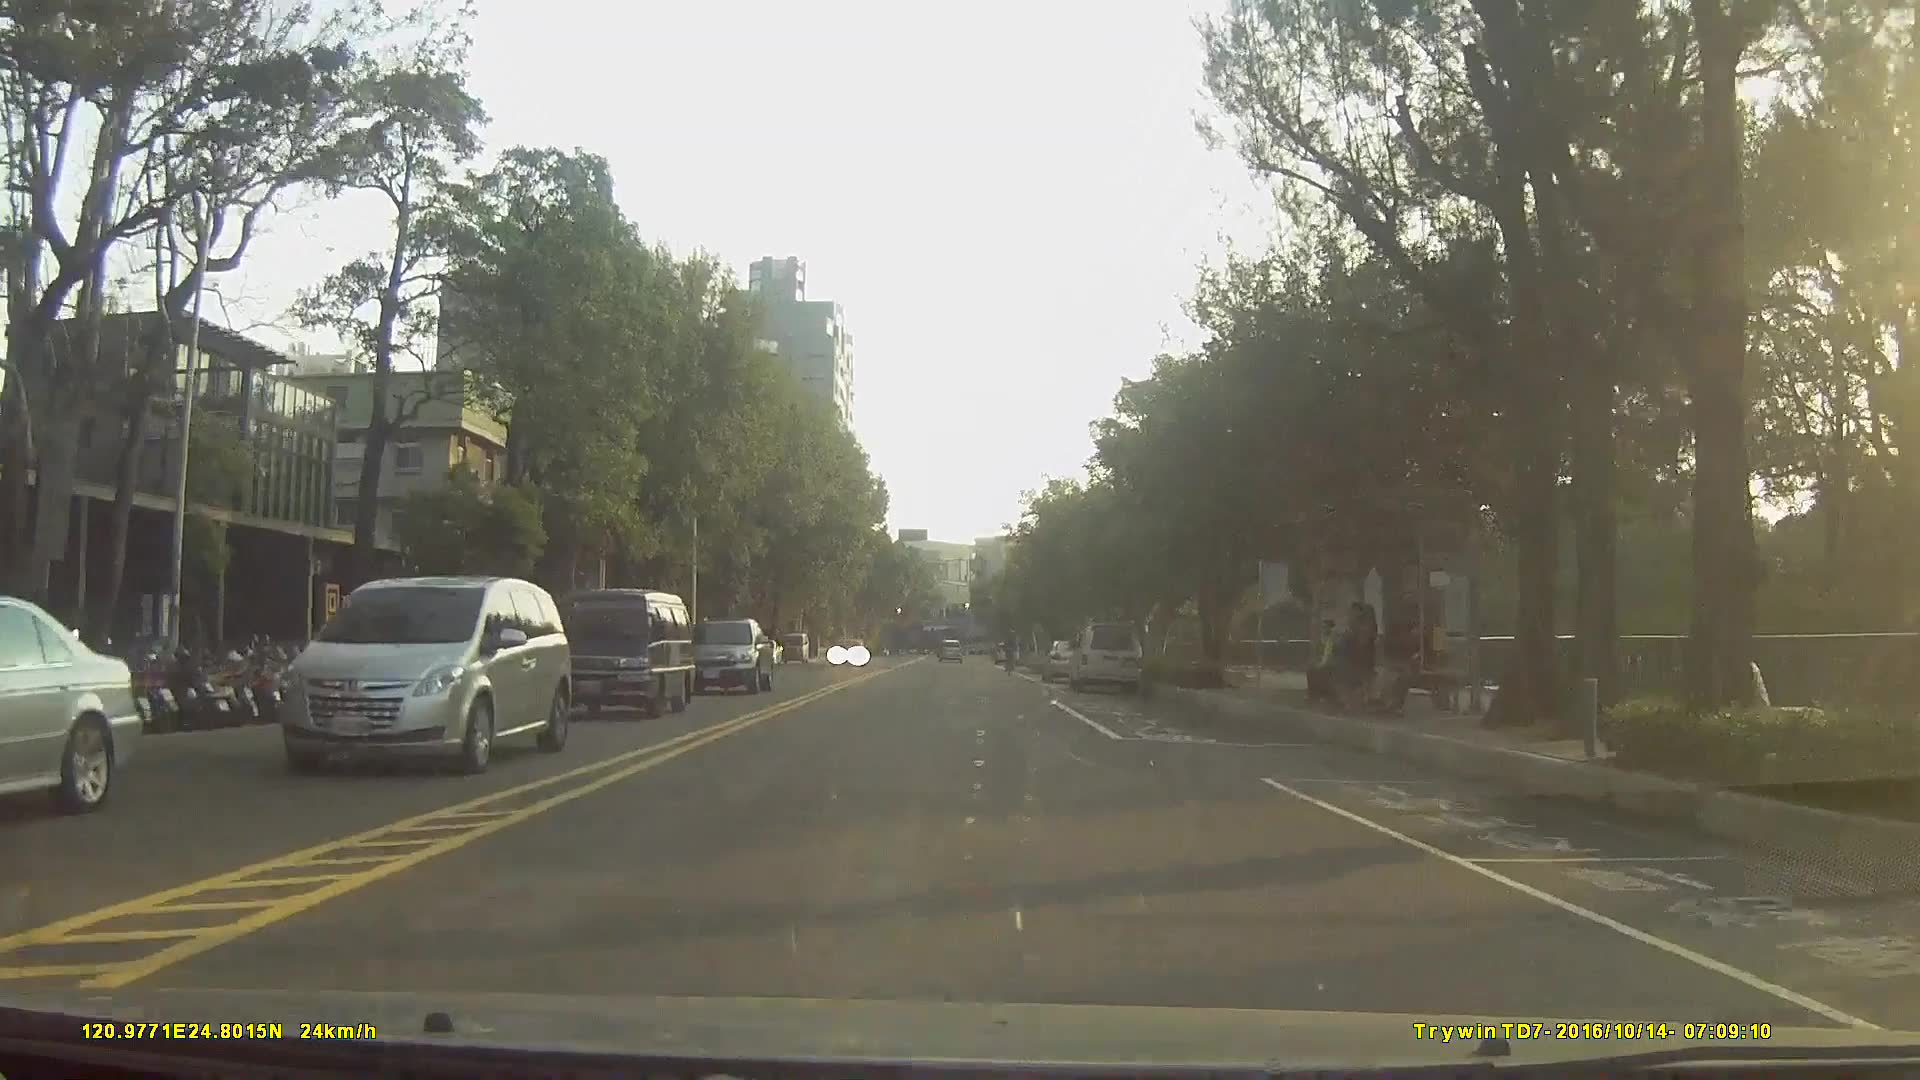pedestrian: (1334, 599, 1377, 723), (1371, 612, 1414, 715), (1304, 613, 1347, 709)
rider: (1001, 631, 1021, 681)
vehicle: (277, 576, 572, 772), (0, 596, 142, 809), (543, 588, 697, 721), (682, 616, 776, 691), (1066, 621, 1143, 693), (1042, 637, 1093, 682), (827, 635, 866, 667), (776, 632, 810, 666), (935, 635, 962, 662)
